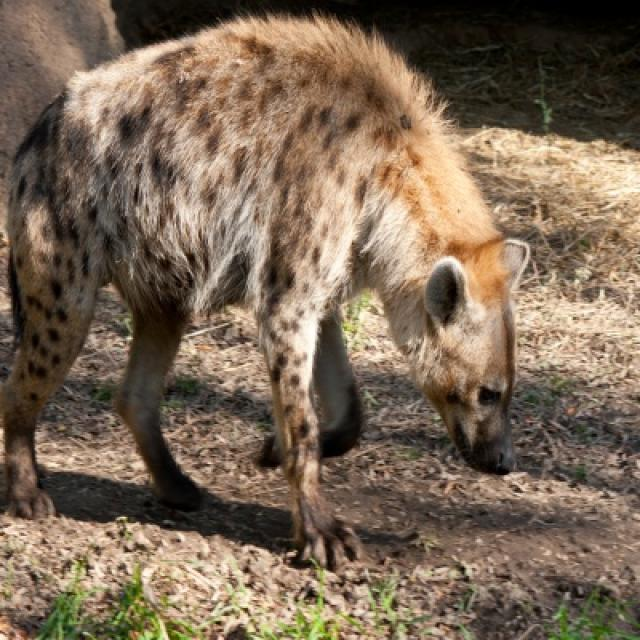hyena: (0, 16, 528, 566)
